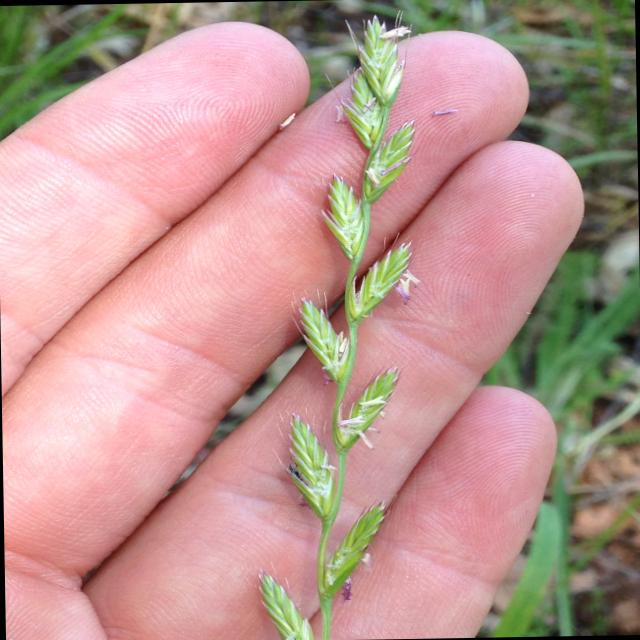Lolium: (246, 10, 432, 639)
